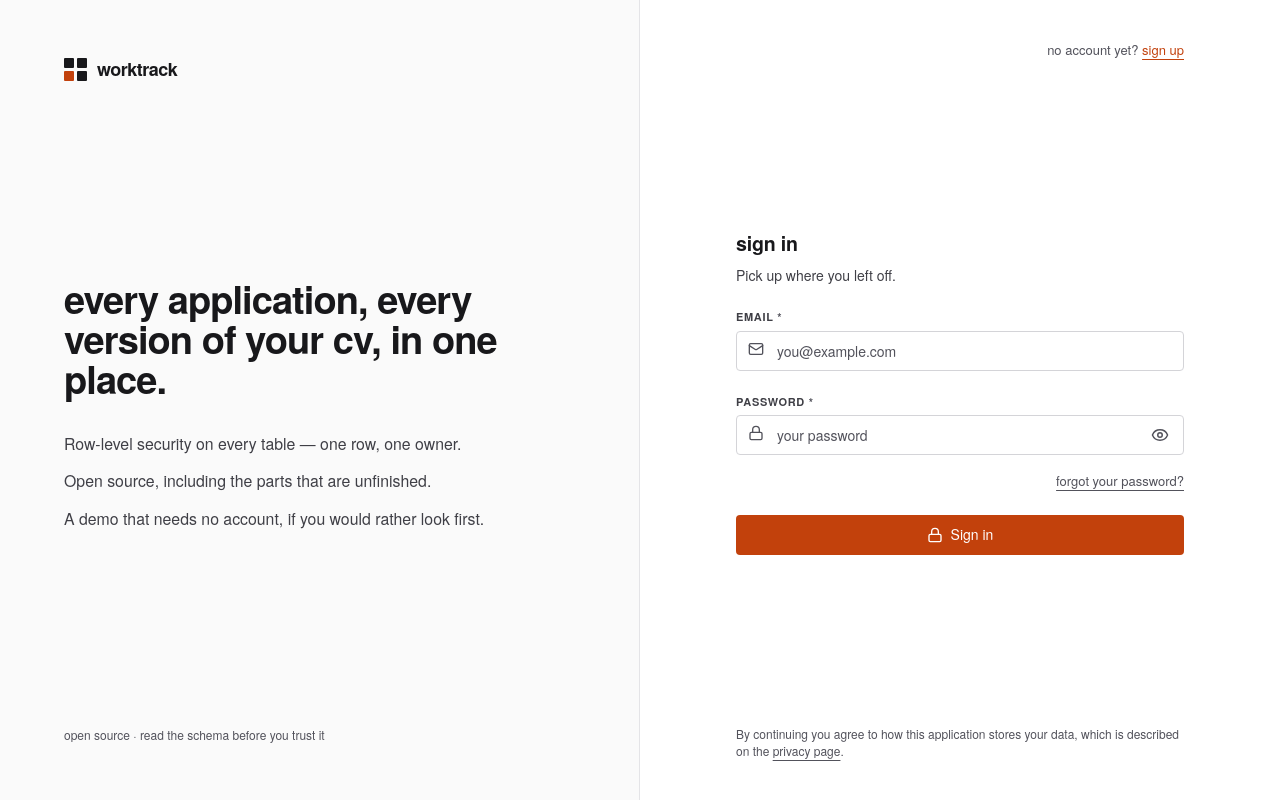
the /login route › does not navigate when the sign-in is refused
In the field labelled "Email *": (960, 351) top-left (736, 331), bottom-right (1184, 371), type "a@b.test"
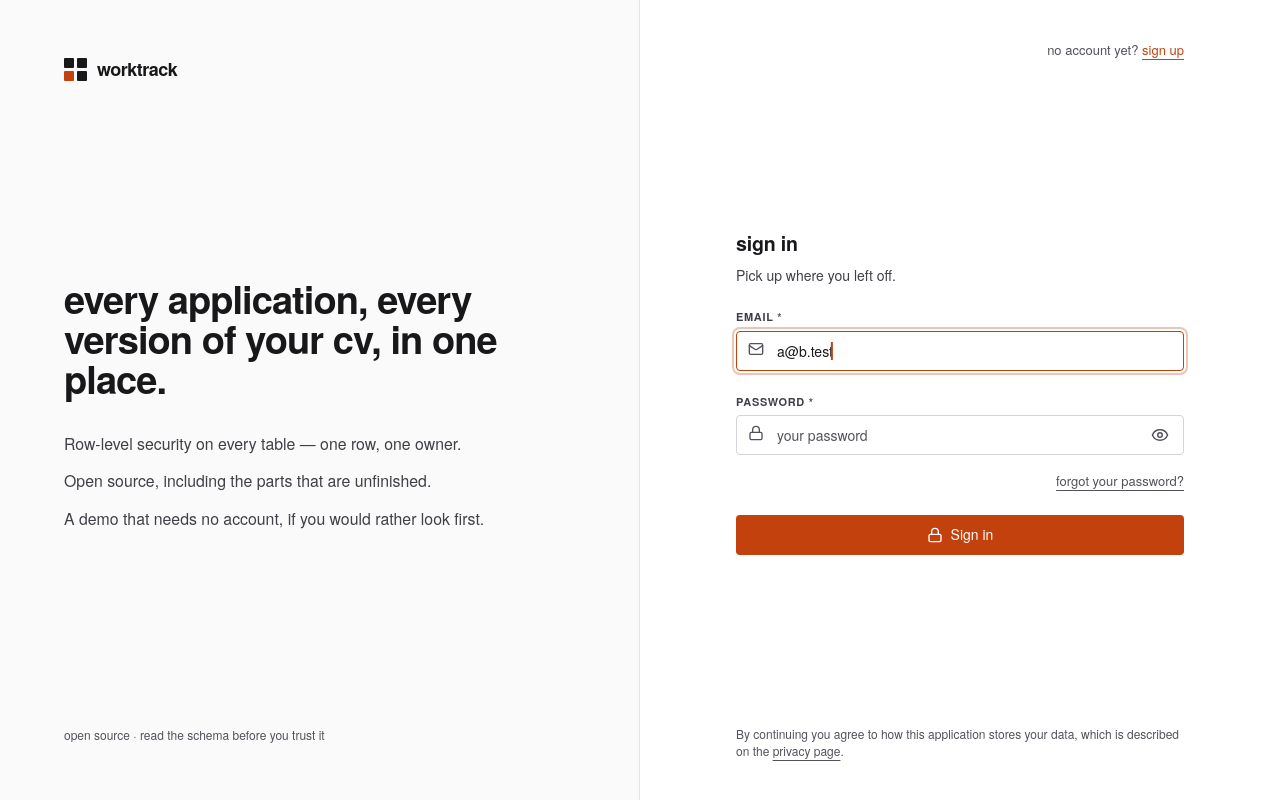
In the password field labelled "Password *": (960, 435) top-left (736, 415), bottom-right (1184, 455), type "wrong-one"
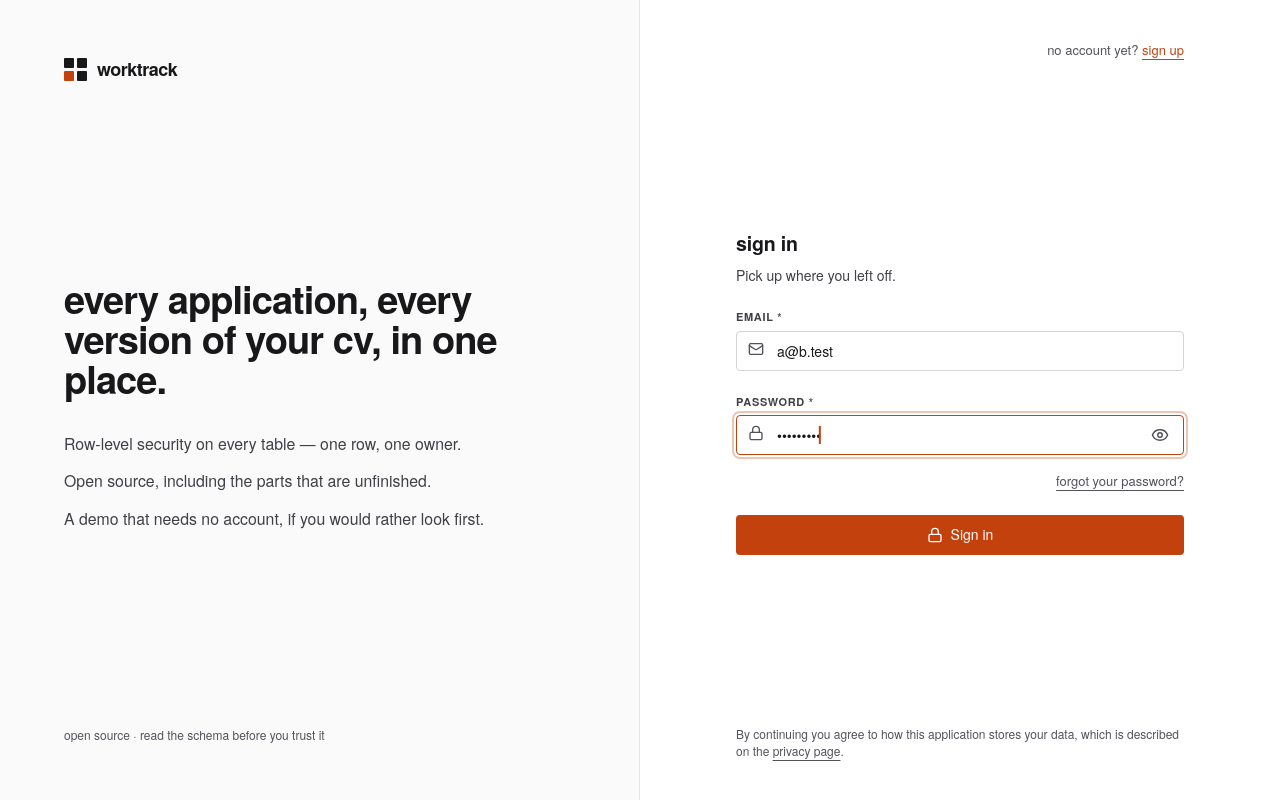
Click the button "Sign in": (960, 535) top-left (736, 515), bottom-right (1184, 555)
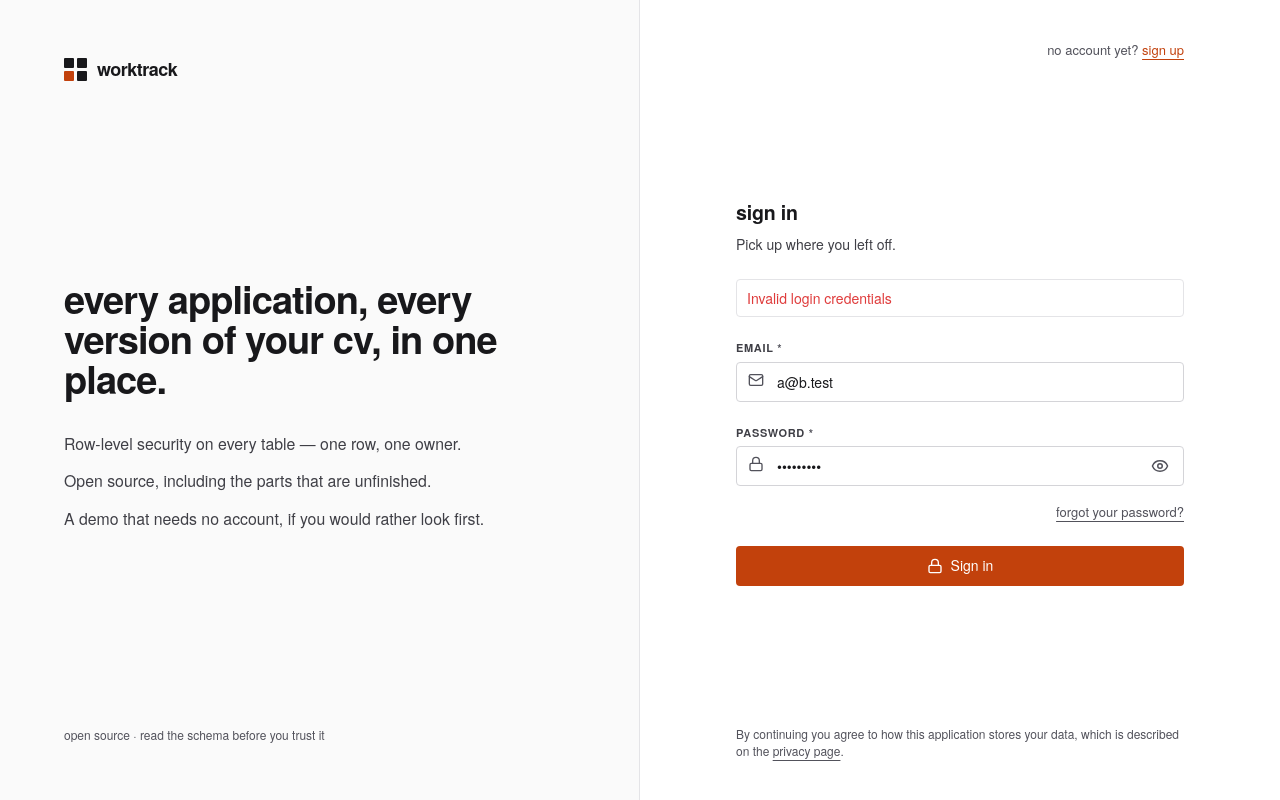
expect the text "Invalid login credentials" is shown: met, box top-left (747, 288), bottom-right (892, 308)
